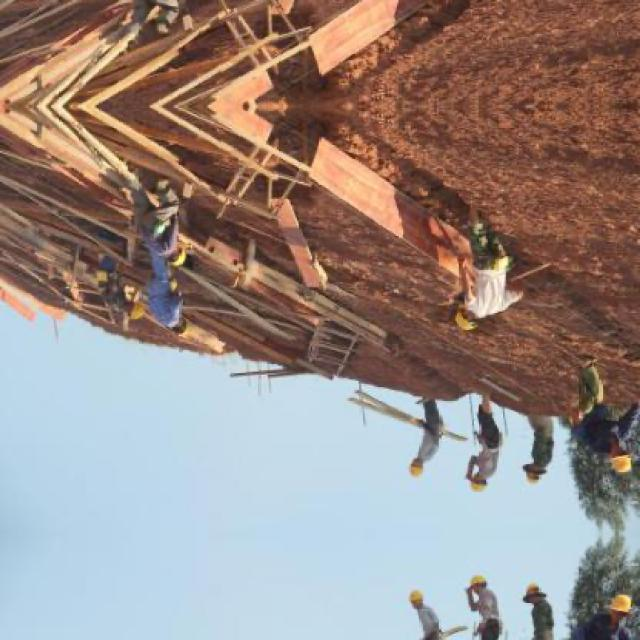con casco: (588, 424, 640, 491), (462, 447, 495, 495), (458, 300, 490, 346), (163, 307, 195, 348), (394, 452, 432, 483), (524, 443, 549, 483)
